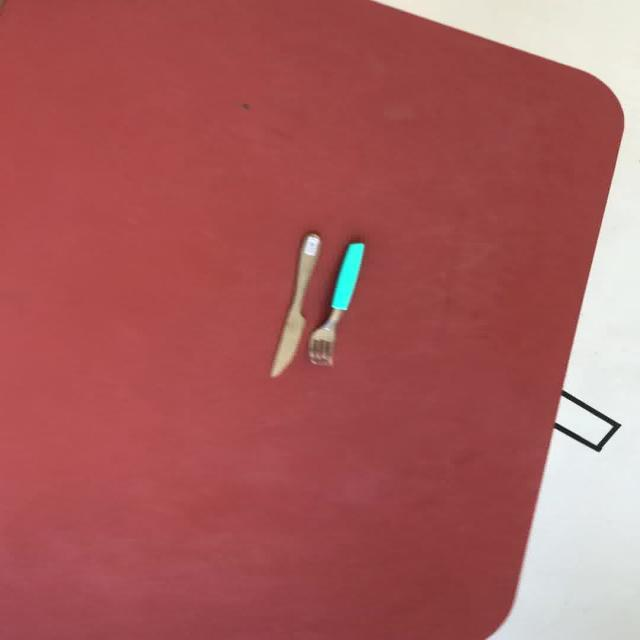fork: (268, 231, 321, 378), (306, 242, 364, 366)
knife fork: (267, 231, 321, 378)
